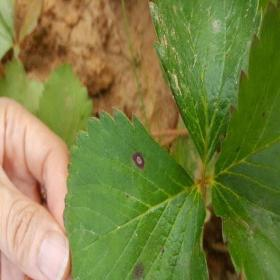Leaf Spot: (62, 107, 210, 279), (210, 0, 279, 279)
